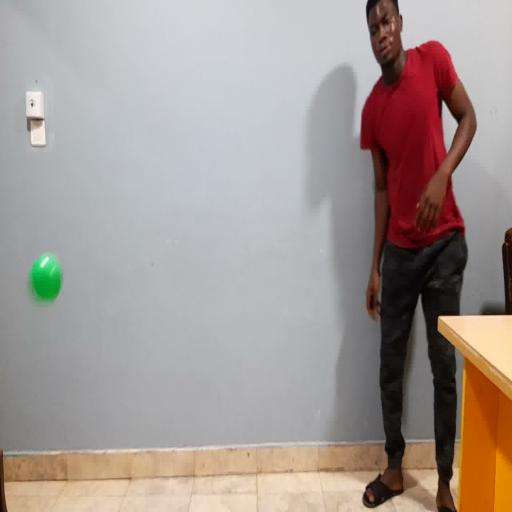plastic-ball: (30, 254, 62, 302)
